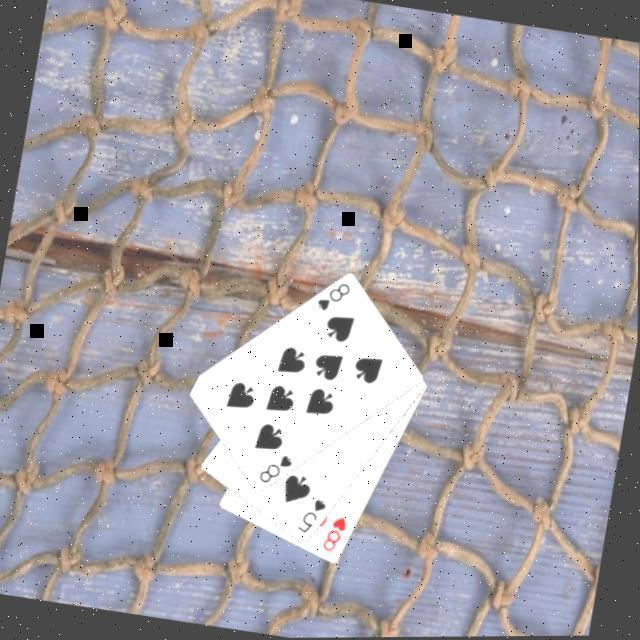5S: (295, 495, 331, 541)
8H: (320, 512, 352, 558)
8S: (257, 450, 298, 491), (314, 278, 355, 319)
